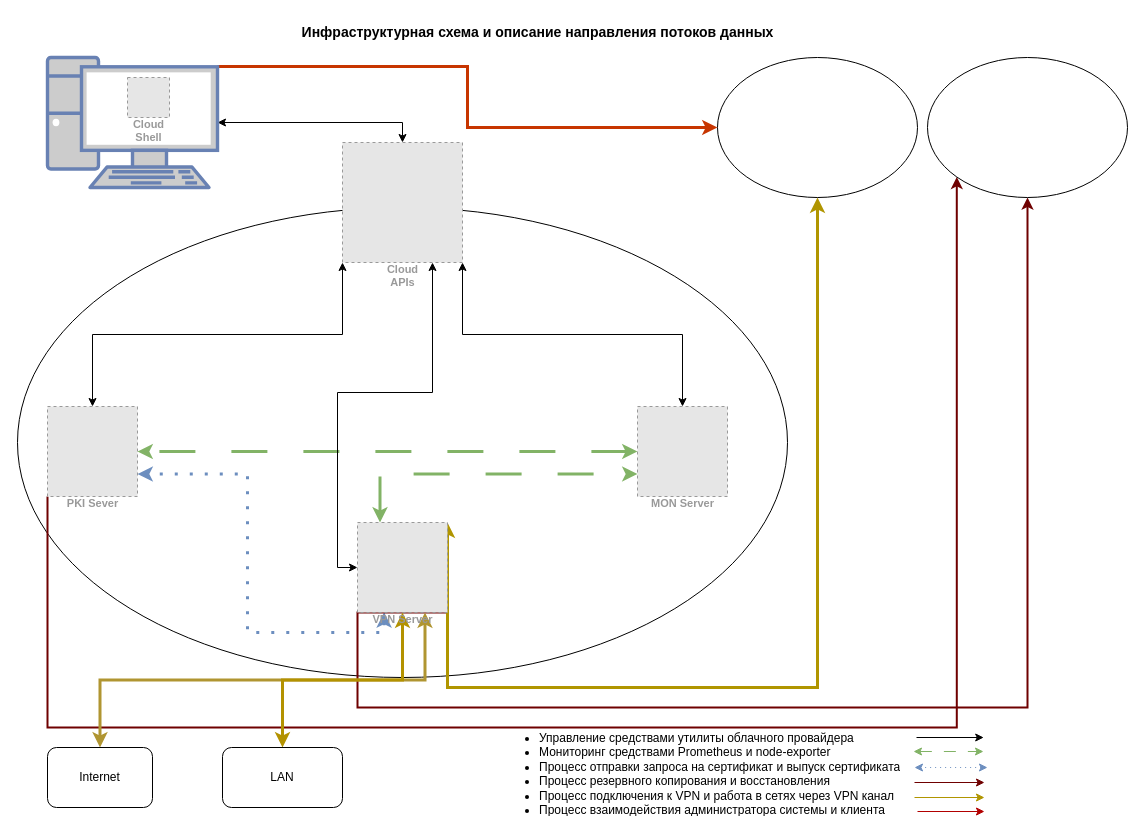
Image size: 1145x837. Some labels were removed from this diagram. Grey dashed boxes stand in for pictures. Each missing label, with the centre of its shape:
Backup: the point at 1027,127
Clients: the point at 817,127
